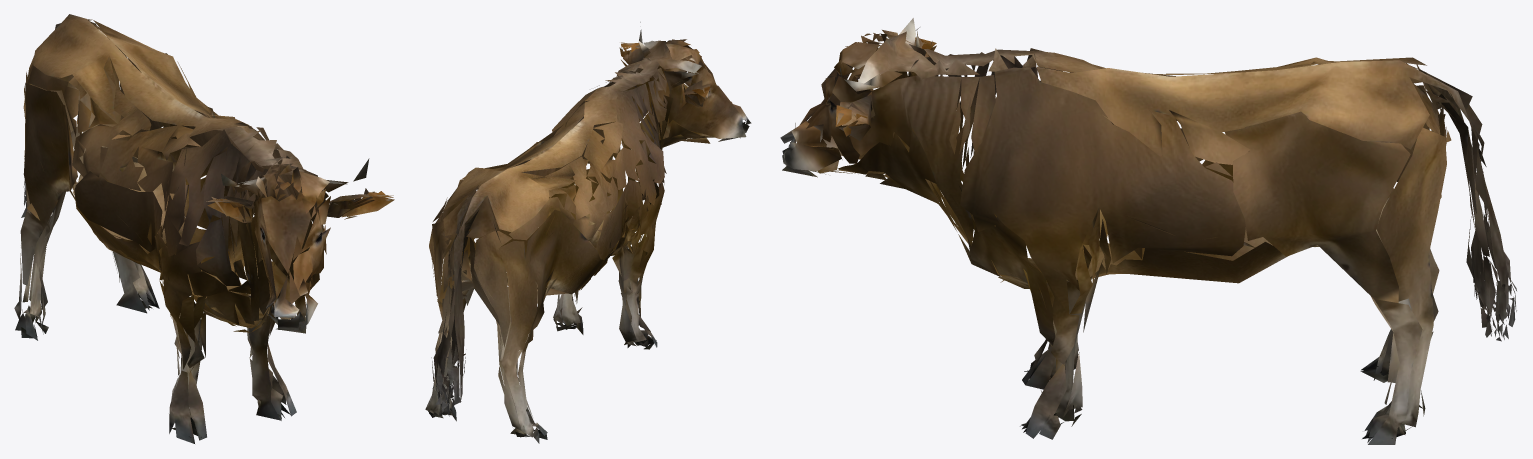
The model's file is harg_low.glb.
3 renders of one model, left to right at view 1: azimuth 30°, elevation 25°; view 2: azimuth 150°, elevation 25°; view 3: azimuth 270°, elevation 25°, orthographic. The views are drawn at different scales.
Visible parts, largest first — view 1: world; view 2: world; view 3: world.
Boxes of the visible parts, left/top/right/bottom form: world: left=14, top=14, right=394, bottom=443; world: left=425, top=22, right=751, bottom=443; world: left=780, top=18, right=1516, bottom=444.
Size of the model in its own units: 0.4905 by 0.9972 by 1.78.
1 material, 1 textured.
